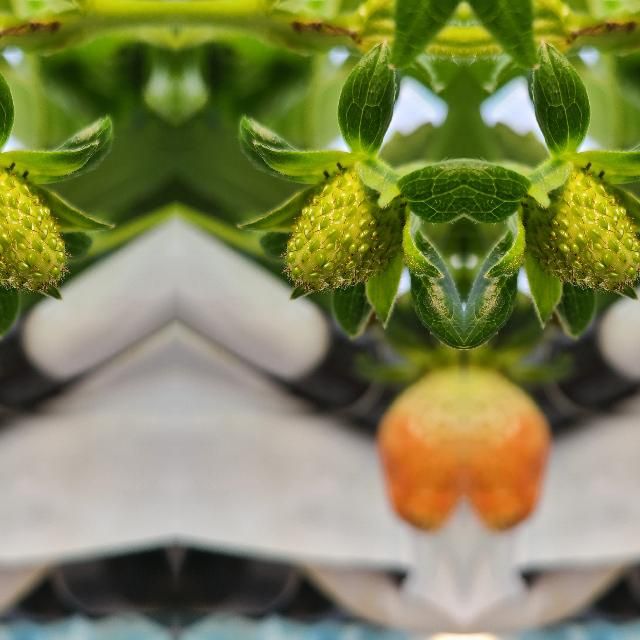Health_25: (282, 170, 403, 292), (522, 169, 640, 292), (0, 169, 67, 292)
